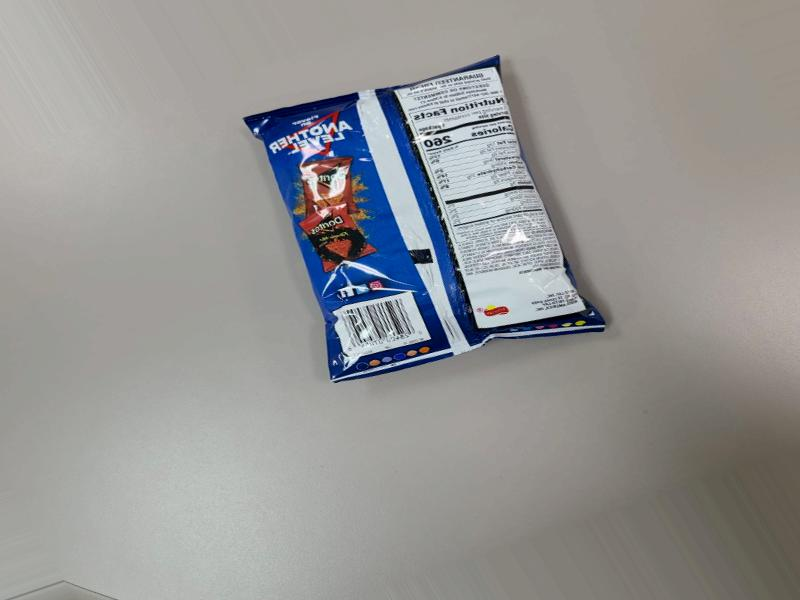doritos: (222, 55, 623, 407)
